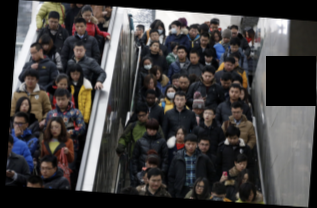with_mask: (166, 88, 177, 98), (143, 60, 152, 69), (170, 24, 178, 33), (157, 26, 164, 35)
without_mask: (39, 164, 54, 177), (55, 95, 69, 108), (149, 176, 162, 190), (12, 119, 25, 132), (49, 123, 61, 136), (24, 76, 37, 88), (136, 111, 148, 123), (174, 96, 186, 108), (19, 101, 30, 113), (74, 46, 85, 58), (185, 140, 196, 152), (202, 110, 214, 121), (235, 160, 247, 171), (29, 49, 40, 60), (75, 23, 86, 34), (178, 79, 189, 90), (198, 141, 209, 152), (229, 88, 240, 99), (231, 109, 242, 120), (243, 191, 254, 202), (195, 182, 205, 194), (226, 135, 239, 144), (145, 95, 155, 106), (202, 73, 213, 83), (175, 131, 185, 142), (146, 161, 158, 170), (70, 70, 80, 80), (48, 19, 58, 29), (149, 31, 159, 41), (176, 49, 186, 59), (189, 54, 199, 64), (57, 80, 68, 89), (81, 12, 92, 21), (146, 127, 157, 136), (223, 62, 235, 70), (171, 78, 180, 88), (193, 106, 203, 115), (220, 80, 231, 88), (150, 42, 159, 51), (189, 28, 198, 37), (199, 37, 208, 46), (40, 42, 50, 50), (229, 44, 239, 52), (204, 54, 213, 62), (154, 70, 161, 80), (147, 79, 154, 89), (230, 29, 238, 37), (210, 23, 218, 30), (241, 176, 249, 183), (134, 27, 140, 36), (143, 175, 149, 184), (221, 36, 230, 42), (239, 91, 245, 100), (172, 46, 178, 54), (213, 33, 219, 41), (234, 58, 239, 67), (245, 32, 251, 38)
